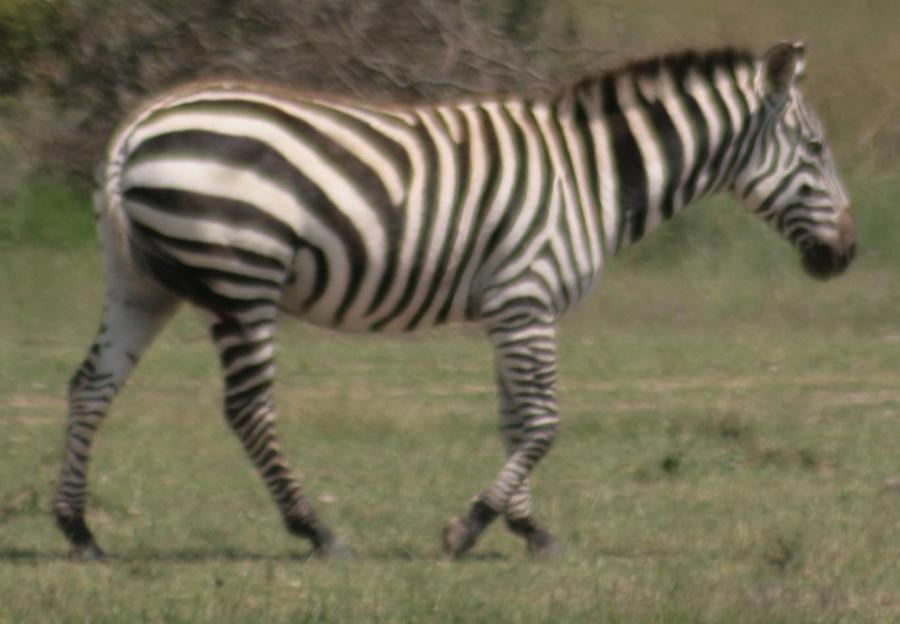zebra_plains: (117, 45, 643, 370)
